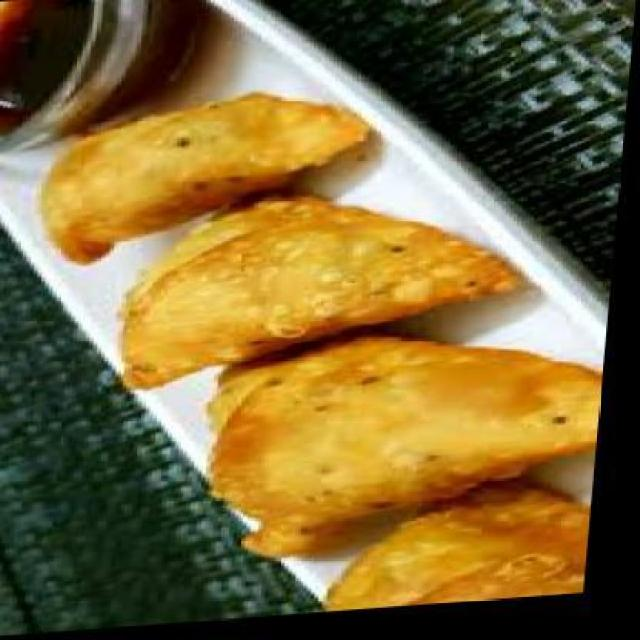samosa: (203, 325, 615, 566), (118, 185, 534, 392), (35, 88, 374, 269), (337, 483, 603, 619)
